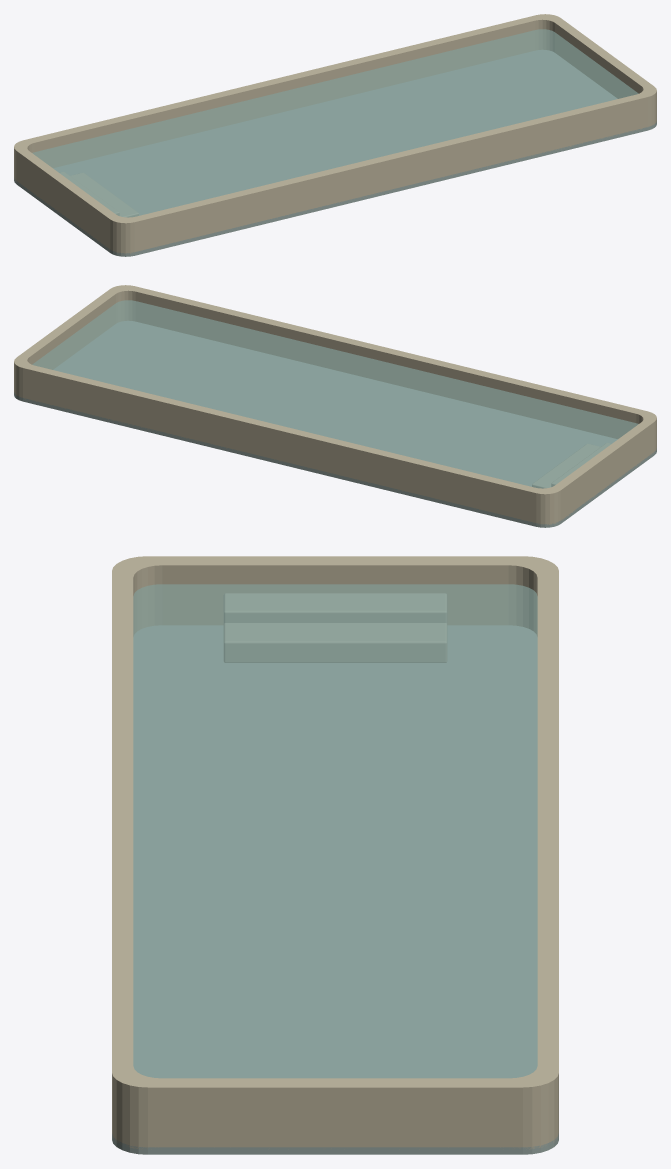
File: longpool.glb
3 renders of one model, top to bottom at view 1: azimuth 30°, elevation 25°; view 2: azimuth 150°, elevation 25°; view 3: azimuth 270°, elevation 25°, orthographic. The views are drawn at different scales.
Visible parts, largest first — view 1: contained-pool-water, closed-pool-walls-and-coping, grounded-pool-floor, submerged-entry-step-1; view 2: contained-pool-water, closed-pool-walls-and-coping, grounded-pool-floor, submerged-entry-step-1; view 3: contained-pool-water, grounded-pool-floor, closed-pool-walls-and-coping, submerged-entry-step-1, submerged-entry-step-0.
Boxes of the visible parts, <box> form: contained-pool-water: <box>32,29,638,217</box>; closed-pool-walls-and-coping: <box>14,14,656,254</box>; grounded-pool-floor: <box>14,50,656,256</box>; submerged-entry-step-1: <box>71,173,138,217</box>; contained-pool-water: <box>32,300,638,488</box>; closed-pool-walls-and-coping: <box>14,285,656,525</box>; grounded-pool-floor: <box>14,321,656,527</box>; submerged-entry-step-1: <box>532,444,599,488</box>; contained-pool-water: <box>133,584,537,1078</box>; grounded-pool-floor: <box>112,625,558,1154</box>; closed-pool-walls-and-coping: <box>112,556,558,1149</box>; submerged-entry-step-1: <box>224,623,446,662</box>; submerged-entry-step-0: <box>224,593,446,622</box>.
Bounding box in the file's own units: 6.99 × 0.4125 × 2.48.
